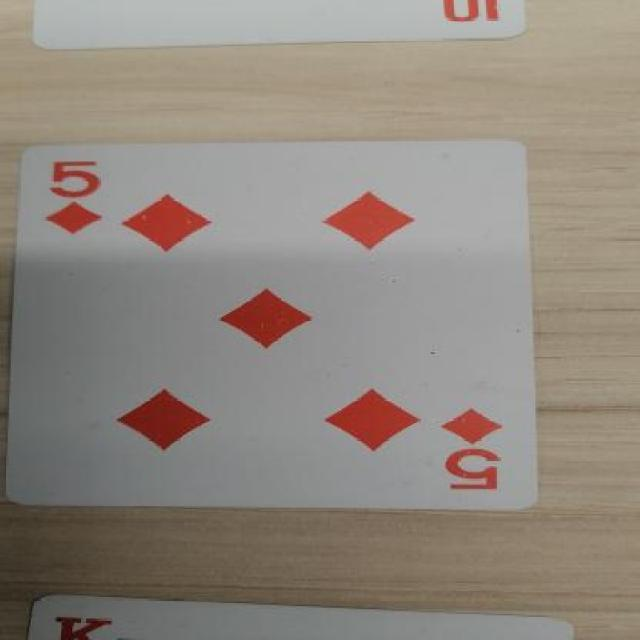5D: (11, 155, 109, 259), (432, 402, 530, 503)
